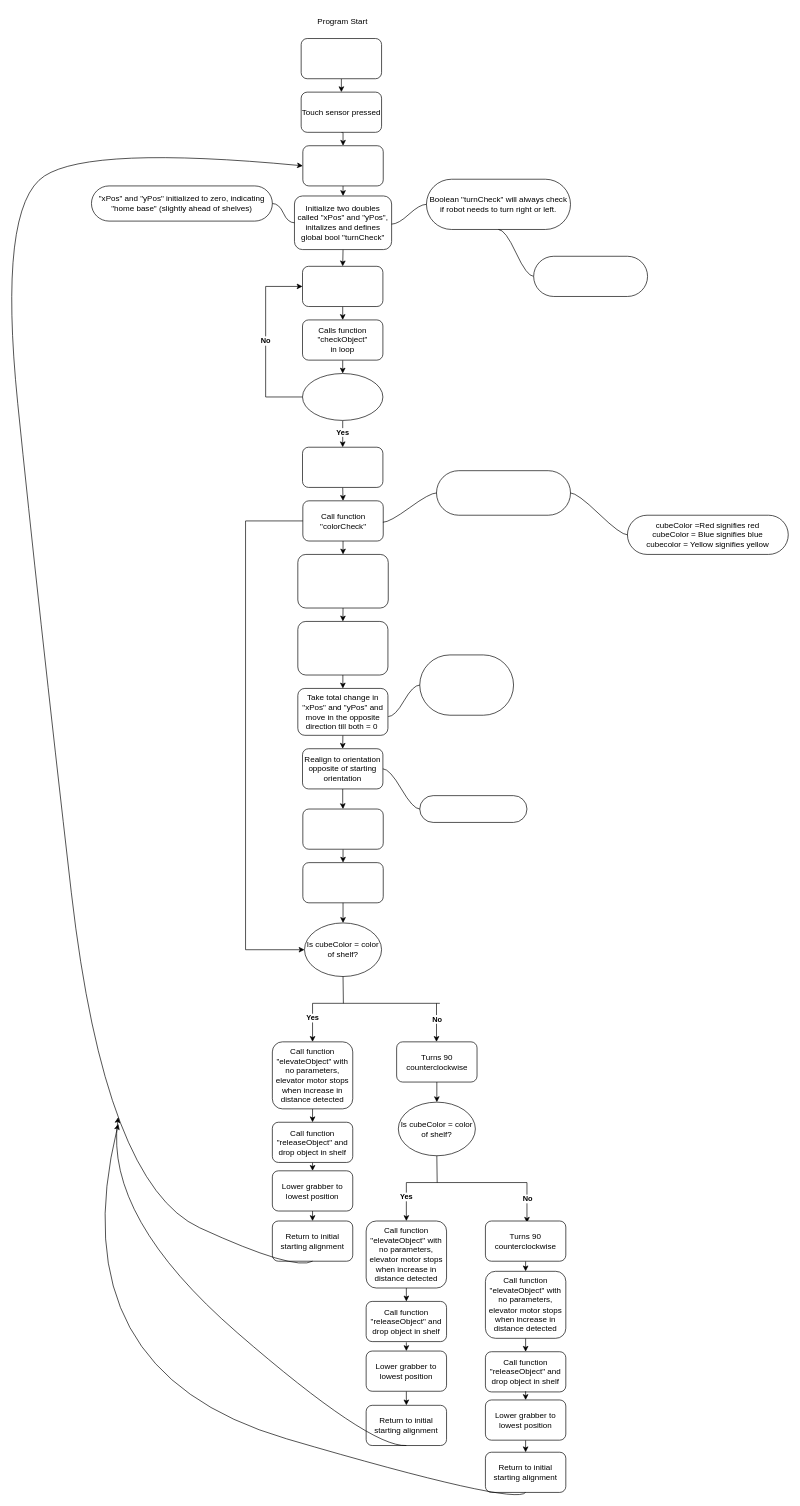
Image size: 800x1506. Some labels were removed from this diagram. Each missing label, with the box of its shape:
Alternatively use the pythogorean theorem and take the shortest distance back: (419, 654, 514, 715)
Autonomous movement around arena: (302, 266, 383, 307)
Calls function "configureAllSensors": (300, 38, 382, 79)
Calls function "elevateObject" with parameter to elevate grabbed object slightly: (297, 554, 388, 608)
Move 20 cm forward: (302, 808, 383, 849)
Move about 20 cm forward: (302, 145, 383, 186)
Object detected in within 10-15 cm?: (302, 373, 383, 420)
Only needed if using pythagoras method: (419, 795, 527, 822)
Stop, call function "grabObject": (302, 447, 383, 487)
string variable "cubeColor" stores current cube grabbed, uses pass by reference: (436, 470, 571, 515)
Turn 90 degrees clockwise or counterclockwise depending on boolean "turnCheck": (297, 621, 388, 675)
Turns 90 clockwise: (302, 862, 383, 903)
value "true" for right turns value "false" for left turns: (533, 256, 648, 296)
